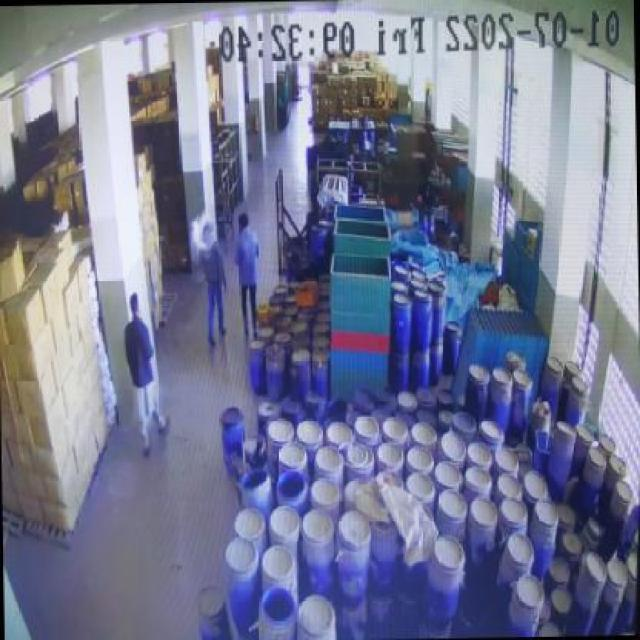fire: (190, 208, 215, 262)
